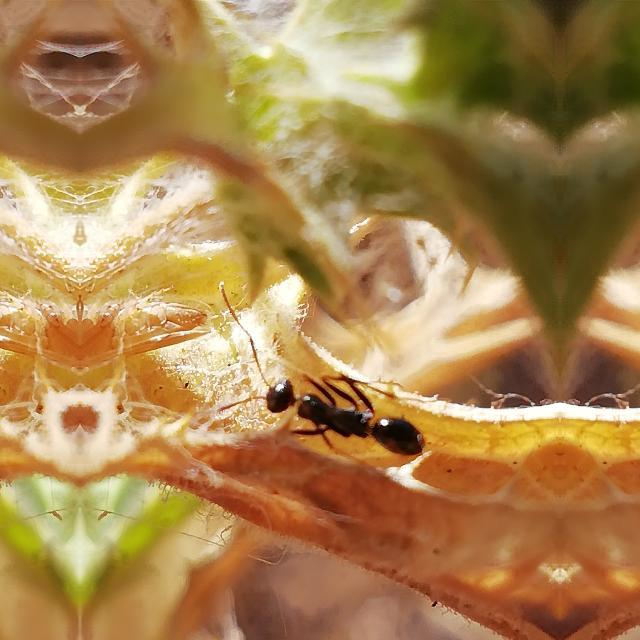Cataglyphis: (238, 335, 444, 495)
